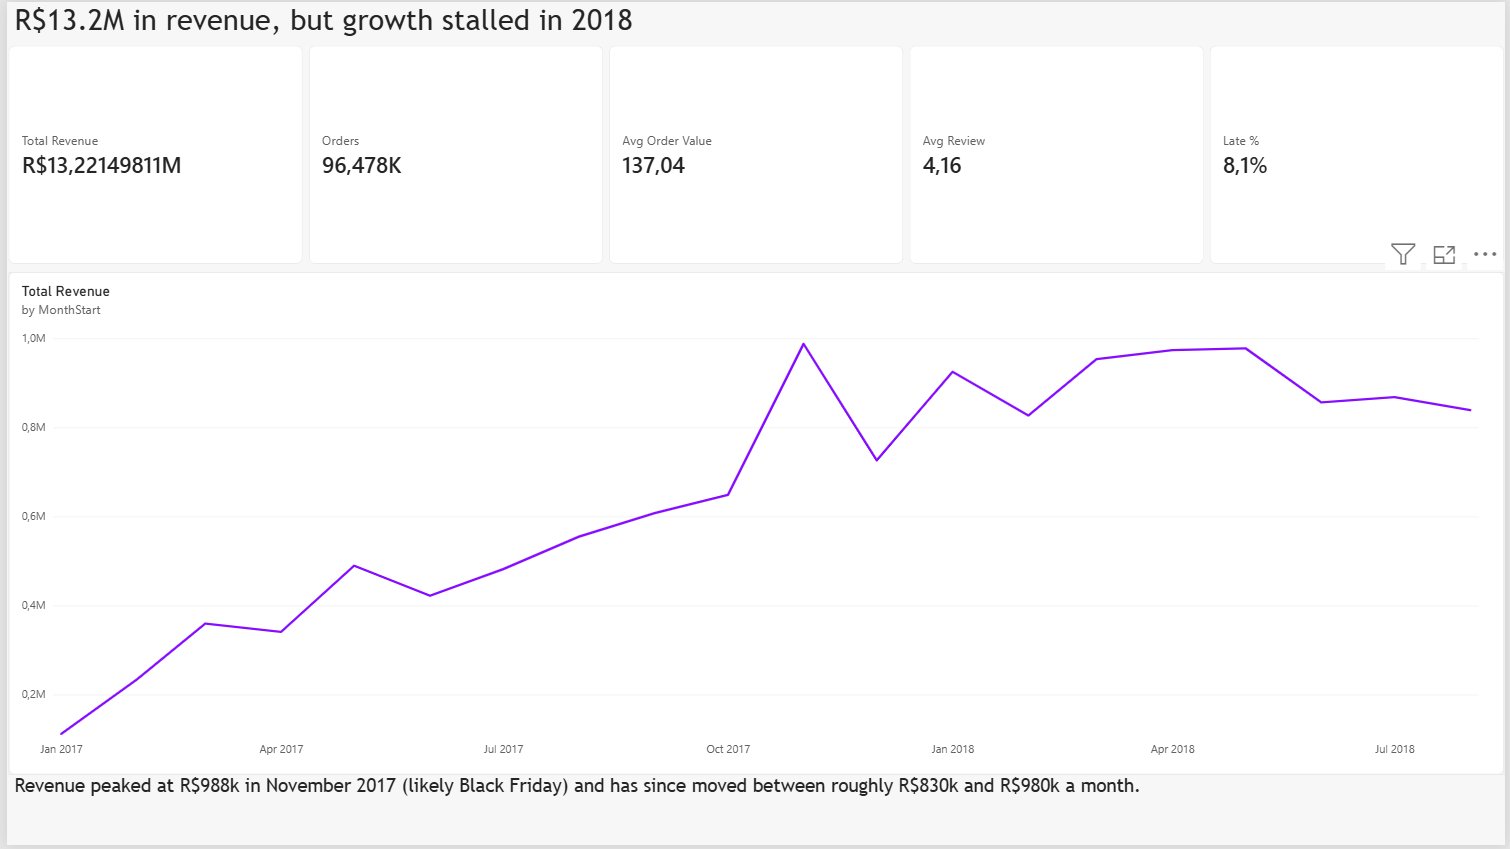

What the dashboard file says about the page in this screenshot:
{"tool":"powerbi","page":{"name":"Overview","canvas":[1920,1080],"ordinal":0},"visuals":[{"type":"cardVisual","fields":{"Data":["vw_order_facts.Total Revenue","vw_order_facts.Orders","vw_order_facts.Avg Order Value","vw_order_facts.Avg Review","vw_order_facts.Late %"]},"box":[1.9,55.8,1917.3,280.8],"z":0},{"type":"lineChart","fields":{"Category":["Calendar.MonthStart"],"Y":["vw_order_facts.Total Revenue"]},"box":[1.9,346.2,1917.3,644.2],"z":1000},{"type":"textbox","box":[9.6,0,1121.2,57.7],"z":2000},{"type":"textbox","box":[9.6,990.4,1482.7,73.1],"z":2001}]}

Visuals, with their boxes in screenshot pixels (x1, y1, x2, y2), scaled from the page's 1920x1080 canvas onto the 1510x849 screenshot:
cardVisual - vw_order_facts.Total Revenue x vw_order_facts.Orders: [left=1, top=44, right=1509, bottom=265]
lineChart - Calendar.MonthStart x vw_order_facts.Total Revenue: [left=1, top=272, right=1509, bottom=779]
textbox: [left=8, top=0, right=889, bottom=45]
textbox: [left=8, top=779, right=1174, bottom=836]
